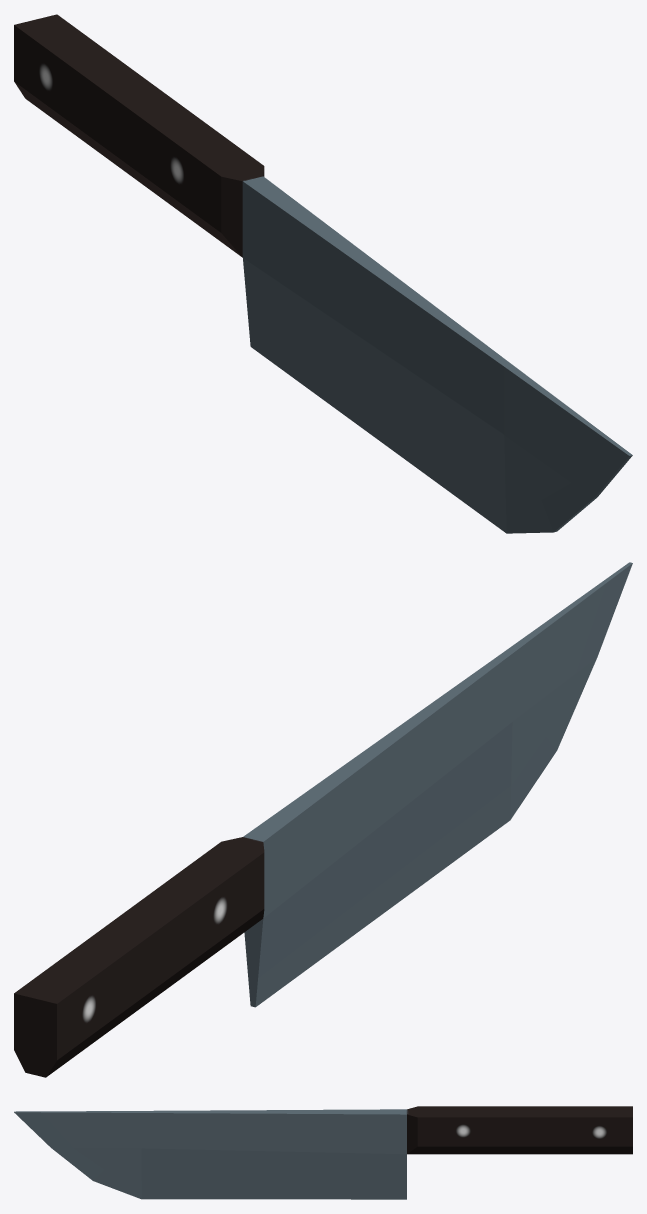
Rendered from Prop masak_Knife.fbx.
3 views of the same model, one above another, from view 1: azimuth 30°, elevation 25°; view 2: azimuth 150°, elevation 25°; view 3: azimuth 270°, elevation 25° (orthographic). The views are drawn at different scales.
Visible parts, largest first — view 1: Knife; view 2: Knife; view 3: Knife.
Part boxes in pixels (x1,y1,x2,y2): Knife: (14, 14, 632, 533); Knife: (14, 562, 632, 1077); Knife: (14, 1106, 632, 1199).
Bounding box in the file's own units: 2.08 × 7.7 × 49.68.
